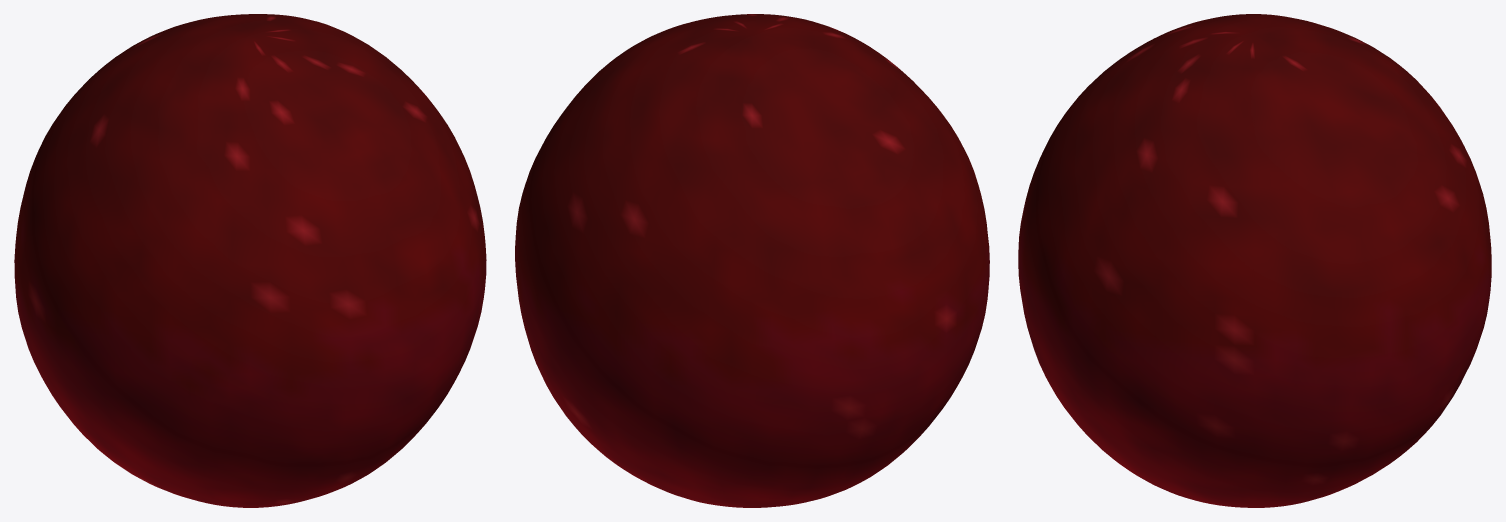
The model's file is goyavier.glb.
3 views of the same model, side by side, from view 1: azimuth 30°, elevation 25°; view 2: azimuth 150°, elevation 25°; view 3: azimuth 270°, elevation 25° (orthographic).
Visible parts, largest first — view 1: entier_peau, moitie_B_peau, moitie_A_peau; view 2: entier_peau, moitie_A_peau, moitie_B_peau; view 3: entier_peau, moitie_B_peau, moitie_A_peau.
Boxes of the visible parts, x1,y1,x2,y2 form: entier_peau: [14, 14, 486, 507]; moitie_B_peau: [45, 29, 485, 507]; moitie_A_peau: [14, 14, 363, 456]; entier_peau: [515, 14, 989, 507]; moitie_A_peau: [545, 30, 957, 507]; moitie_B_peau: [649, 14, 989, 452]; entier_peau: [1018, 14, 1491, 507]; moitie_B_peau: [1018, 14, 1254, 507]; moitie_A_peau: [1255, 14, 1491, 506].
Bounding box in the file's own units: 1.9 × 2 × 1.9.
